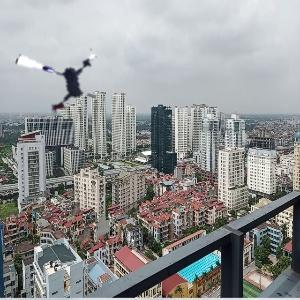drone: (11, 38, 107, 134)
